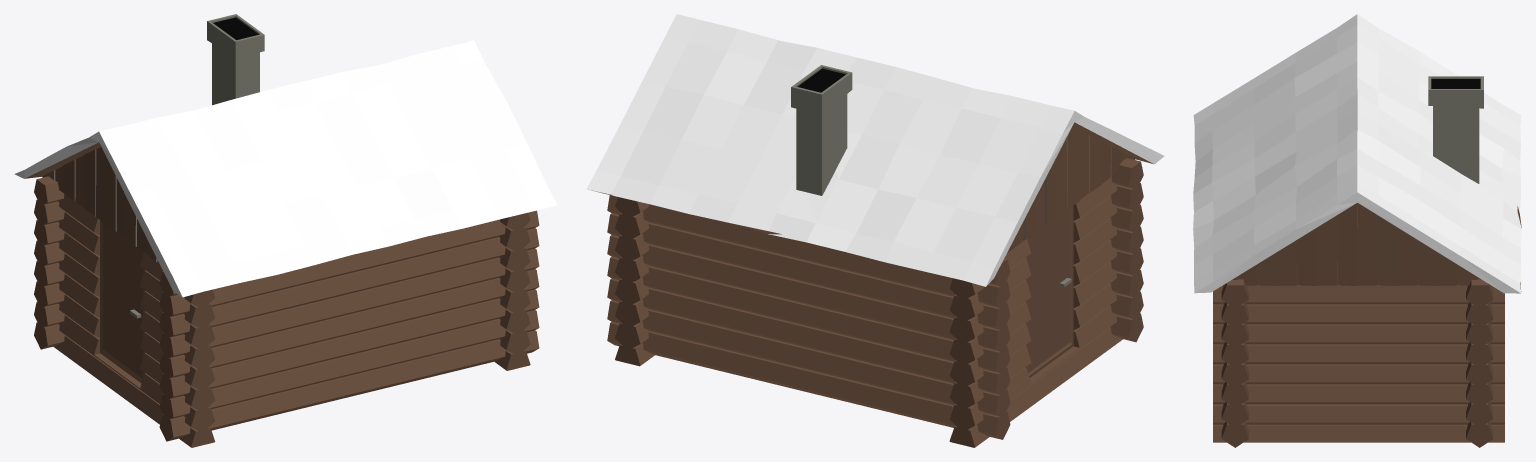
The model's file is Log Cabin.fbx.
3 views of the same model, side by side, from view 1: azimuth 30°, elevation 25°; view 2: azimuth 150°, elevation 25°; view 3: azimuth 270°, elevation 25° (orthographic). The views are drawn at different scales.
Parts seen in each view (by area): view 1: Log_Cabin, Door; view 2: Log_Cabin, Door; view 3: Log_Cabin.
Boxes of the visible parts, left/top/right/bottom form: Log_Cabin: left=14, top=14, right=557, bottom=447; Door: left=100, top=220, right=145, bottom=383; Log_Cabin: left=586, top=14, right=1164, bottom=447; Door: left=1025, top=205, right=1073, bottom=377; Log_Cabin: left=1193, top=14, right=1521, bottom=447.
Size of the model in its own units: 592 by 432 by 460.
